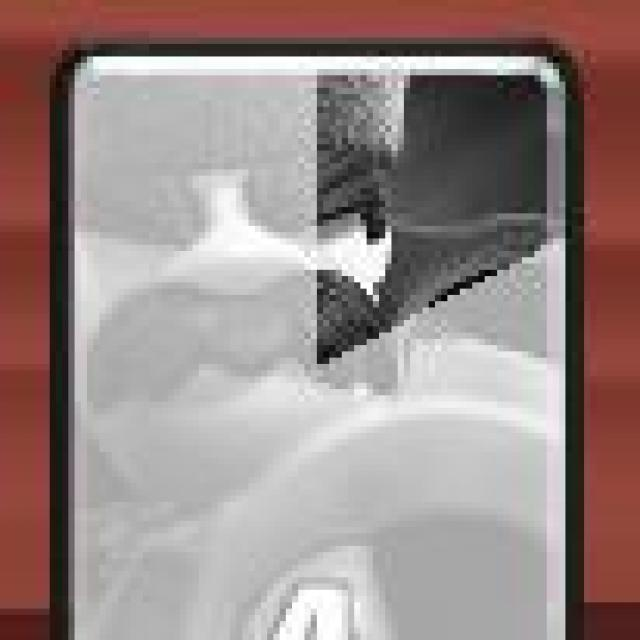Hunter: (43, 42, 586, 640)
